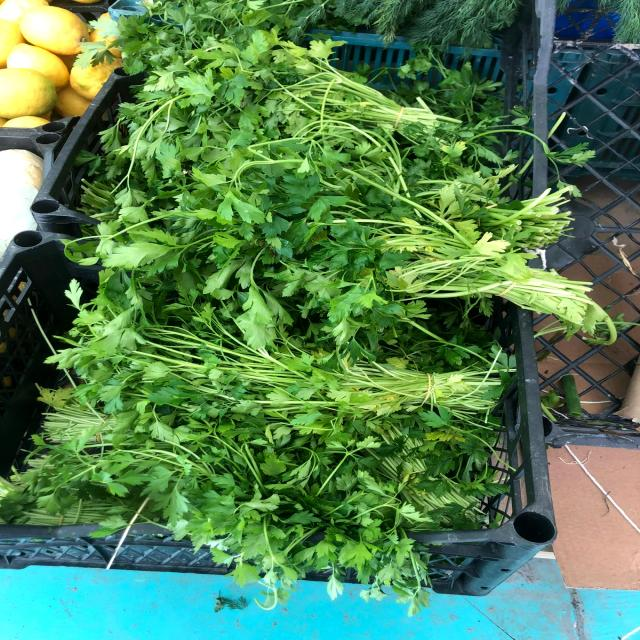parsley: (184, 160, 605, 331), (60, 322, 509, 440), (120, 8, 463, 138)
